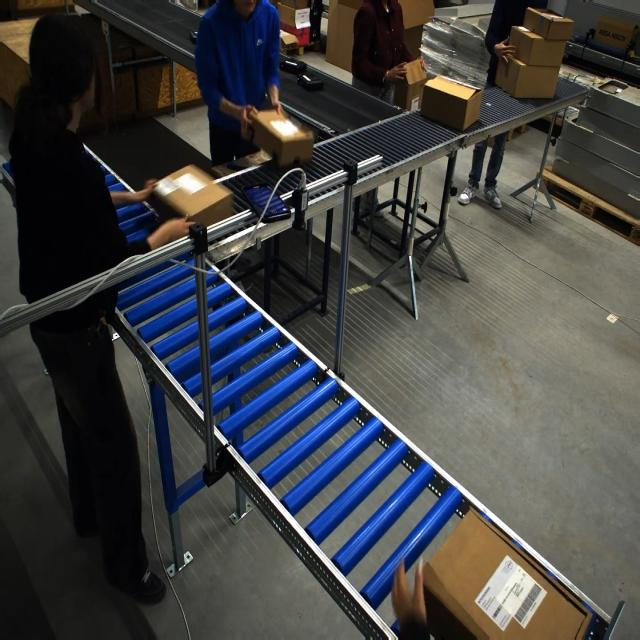box: (417, 505, 596, 639), (149, 164, 233, 229), (248, 107, 314, 168), (421, 76, 483, 132), (495, 52, 559, 99), (508, 24, 568, 67), (392, 58, 426, 112)
product: (227, 159, 250, 171)
